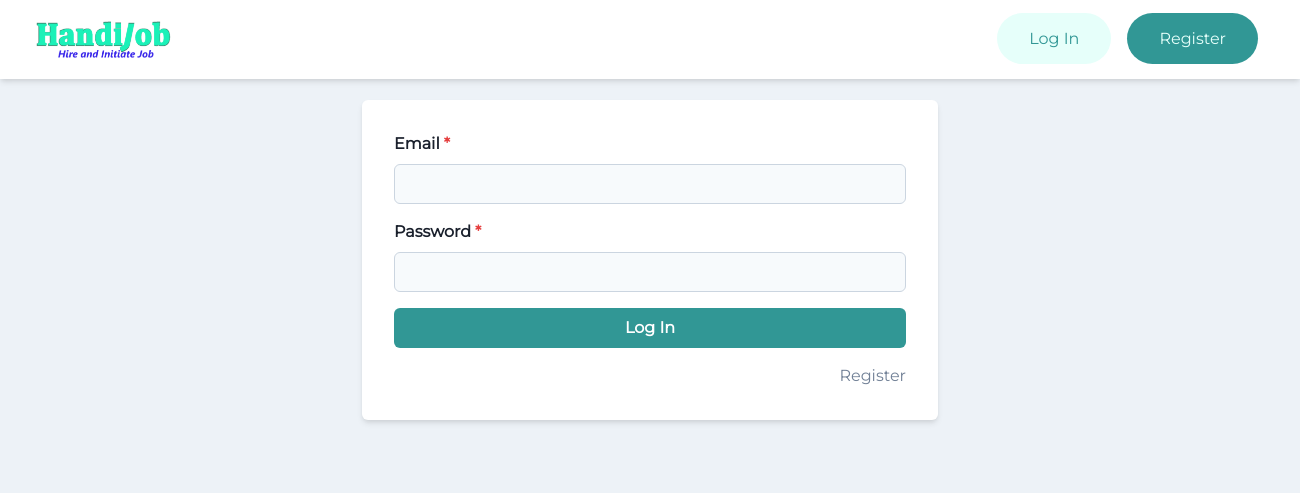
Scenario: Login Form › should show errors when fields are empty
Click the button with test id "login-submit-btn" at (650, 328), box [394, 308, 906, 348]
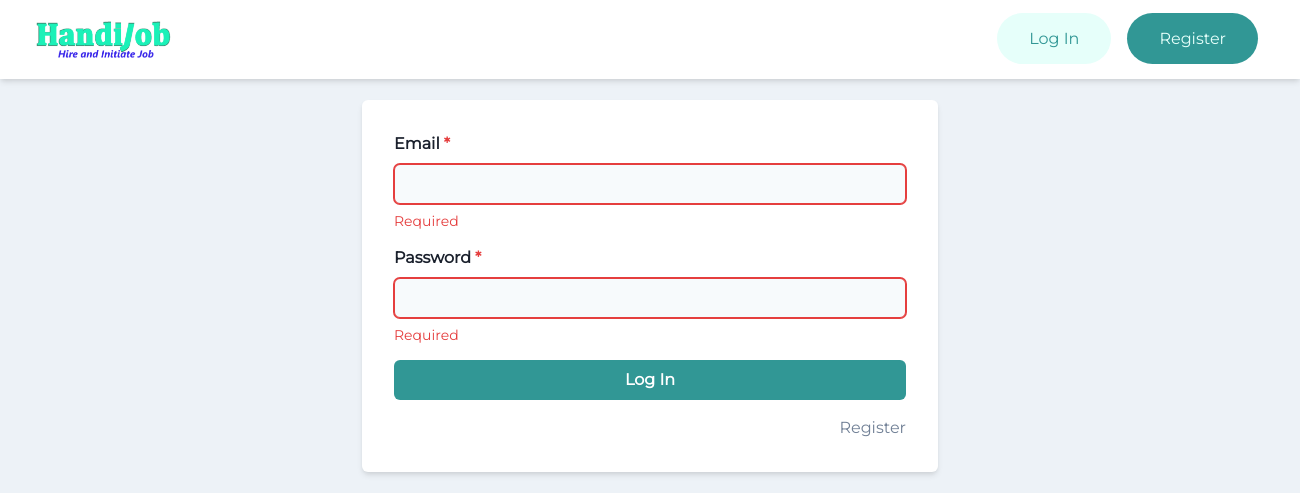
expect the text "Required" below "Email" is shown: met, box [394, 212, 459, 230]
expect the text "Required" below "Password" is shown: met, box [394, 326, 459, 344]
